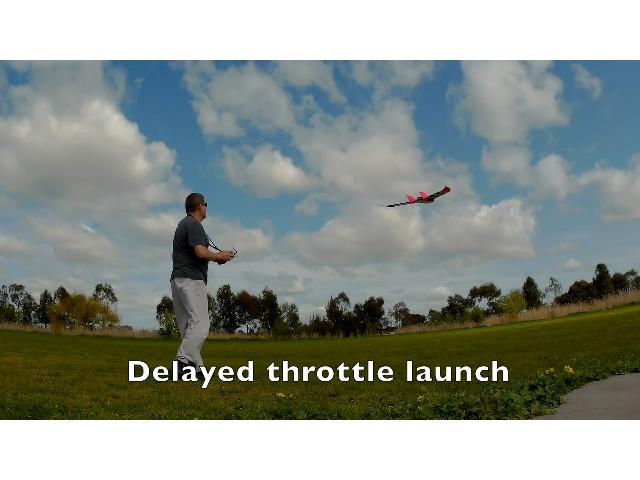Anti-Drone: (378, 186, 450, 208)
